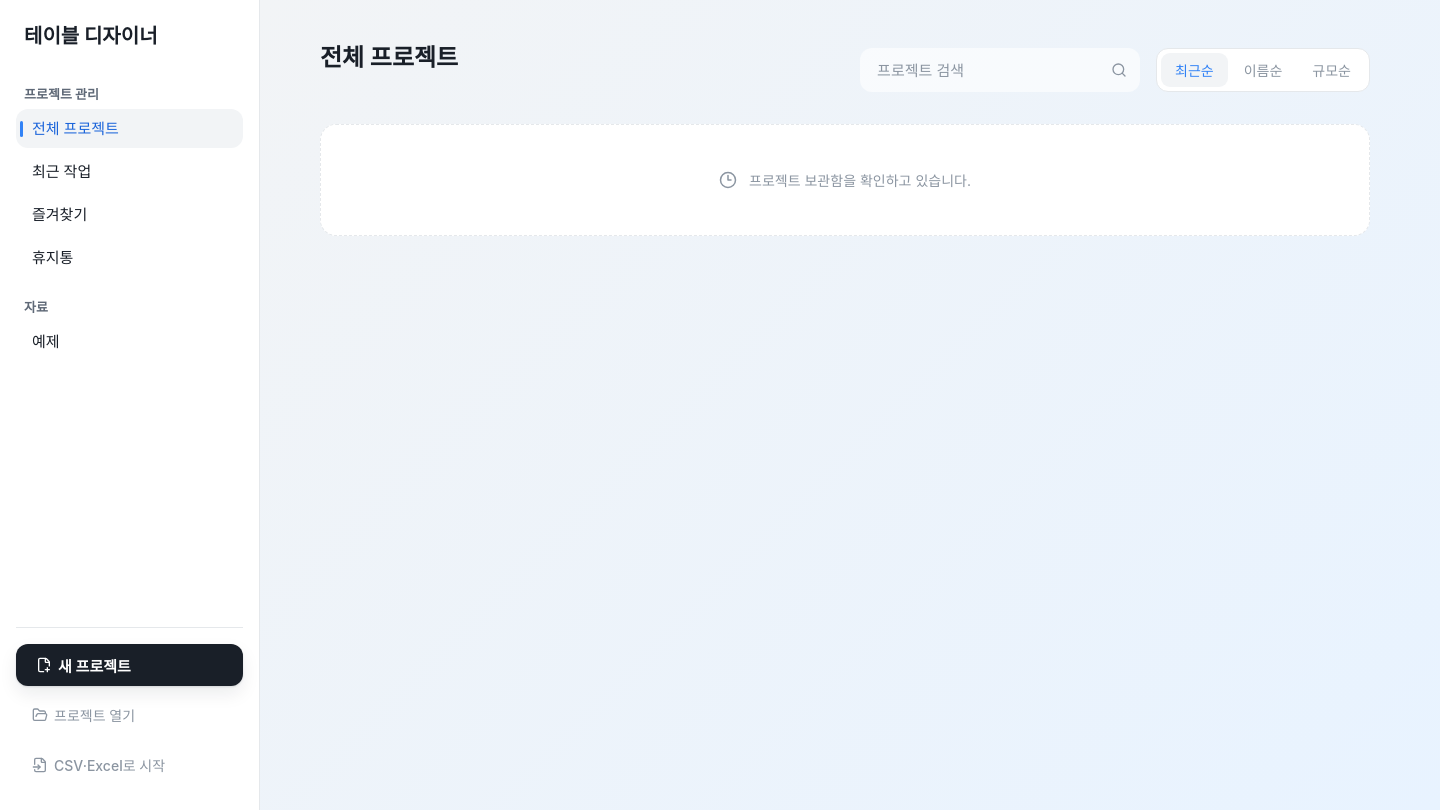
Test: Gate 0 저장·대시보드 UI 감사 › 대시보드에서 사용자 프로젝트와 예제 프로젝트를 분리한다
Check: the heading "전체 프로젝트" is shown, box [320, 40, 458, 76]
Click the button "예제" at (130, 342), box [16, 322, 243, 361]
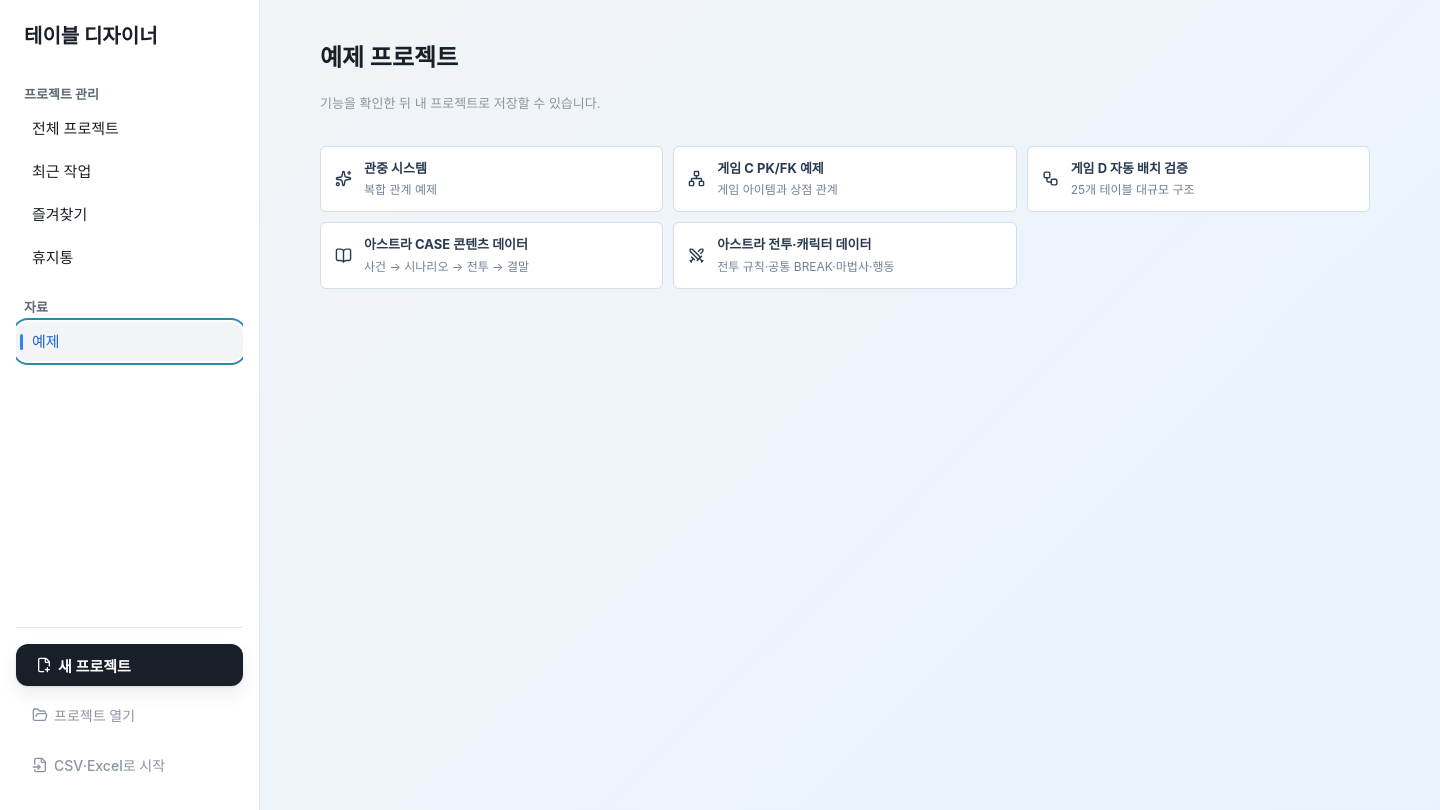
Check: the heading "예제 프로젝트" is shown, box [320, 43, 458, 72]
